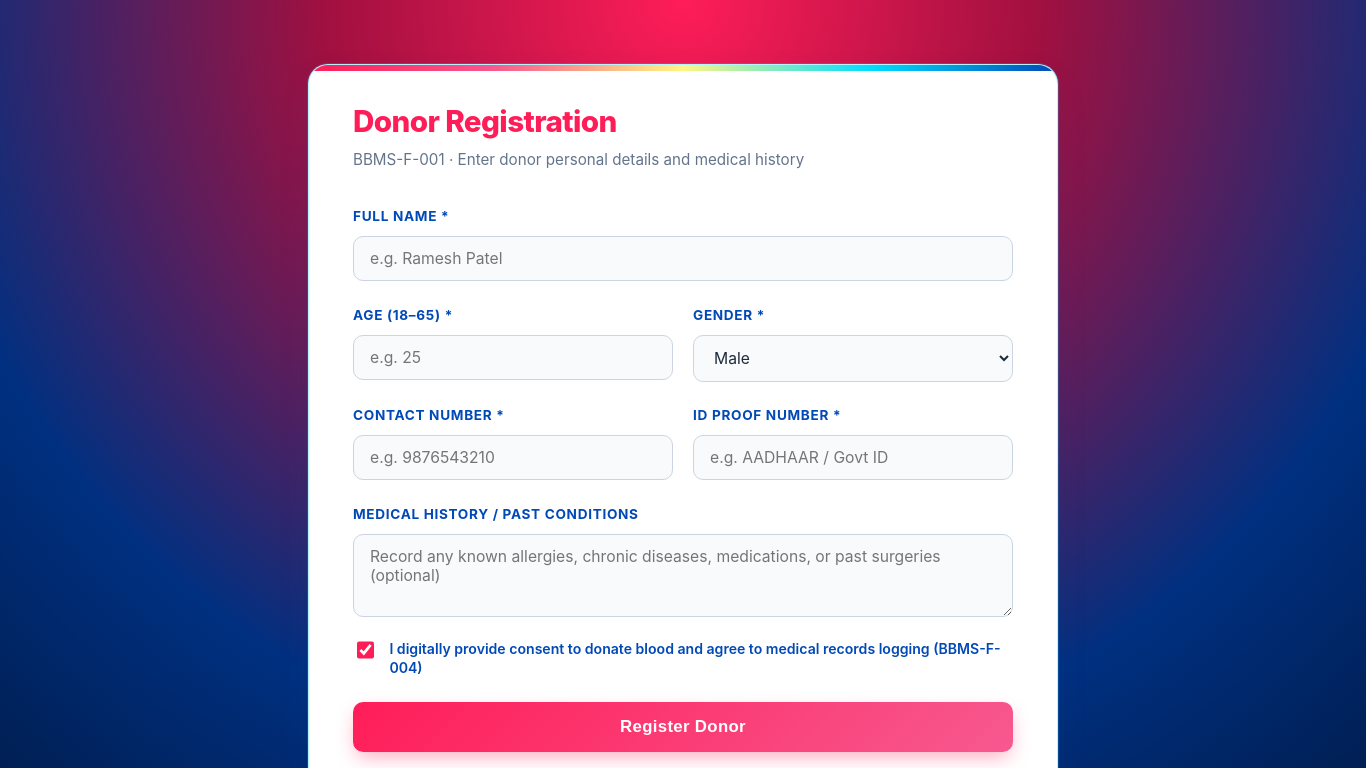
TC-Reg-01, TC-Reg-03 & TC-Reg-04: DonorRegistrationForm (client) › validates required fields and displays field-level error messages
The image size is (1366, 768).
Click the button "Register Donor".
click(683, 727)  # box left=353, top=702, right=1013, bottom=752
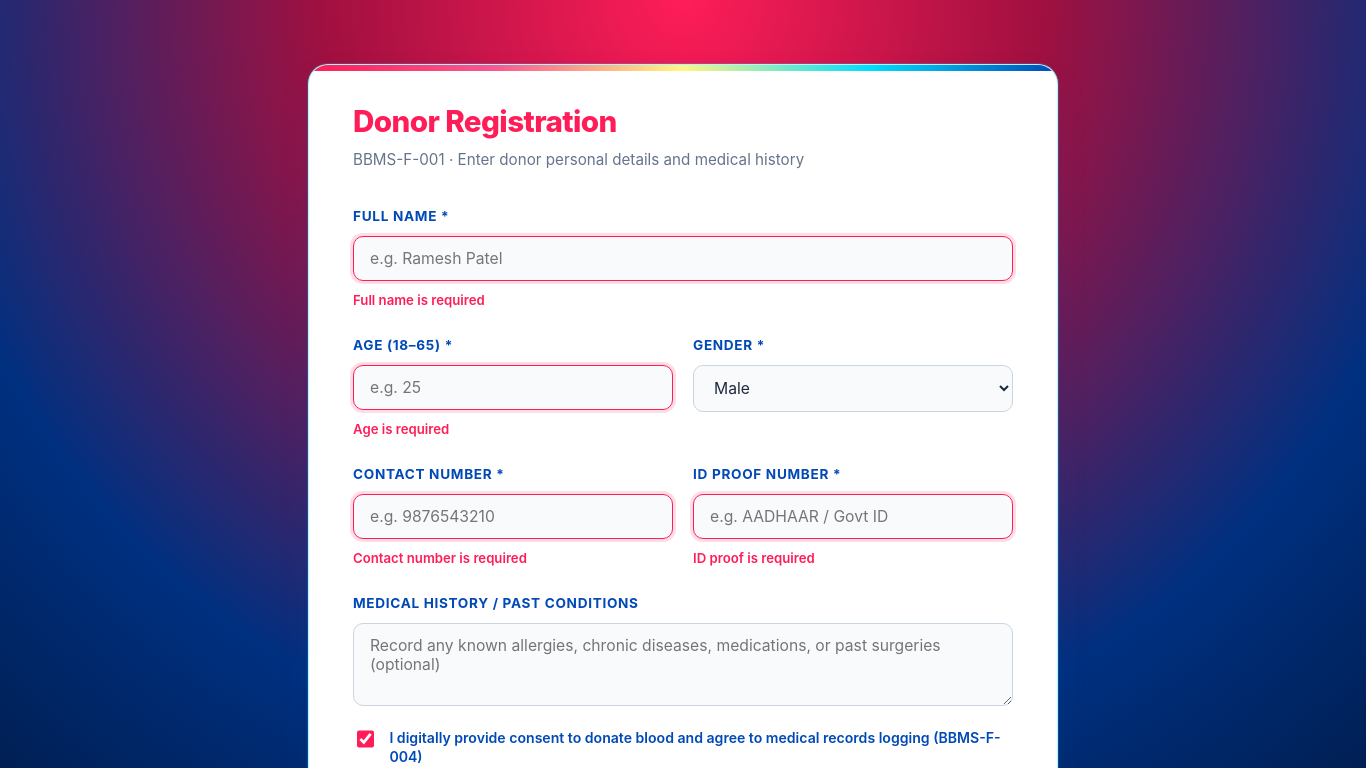
Expected: the text with test id "error-name" reads "Full name is required", left=353, top=292, right=485, bottom=308
Expected: the text with test id "error-age" reads "Age is required", left=353, top=421, right=449, bottom=437
Expected: the text with test id "error-contact" reads "Contact number is required", left=353, top=550, right=527, bottom=566
